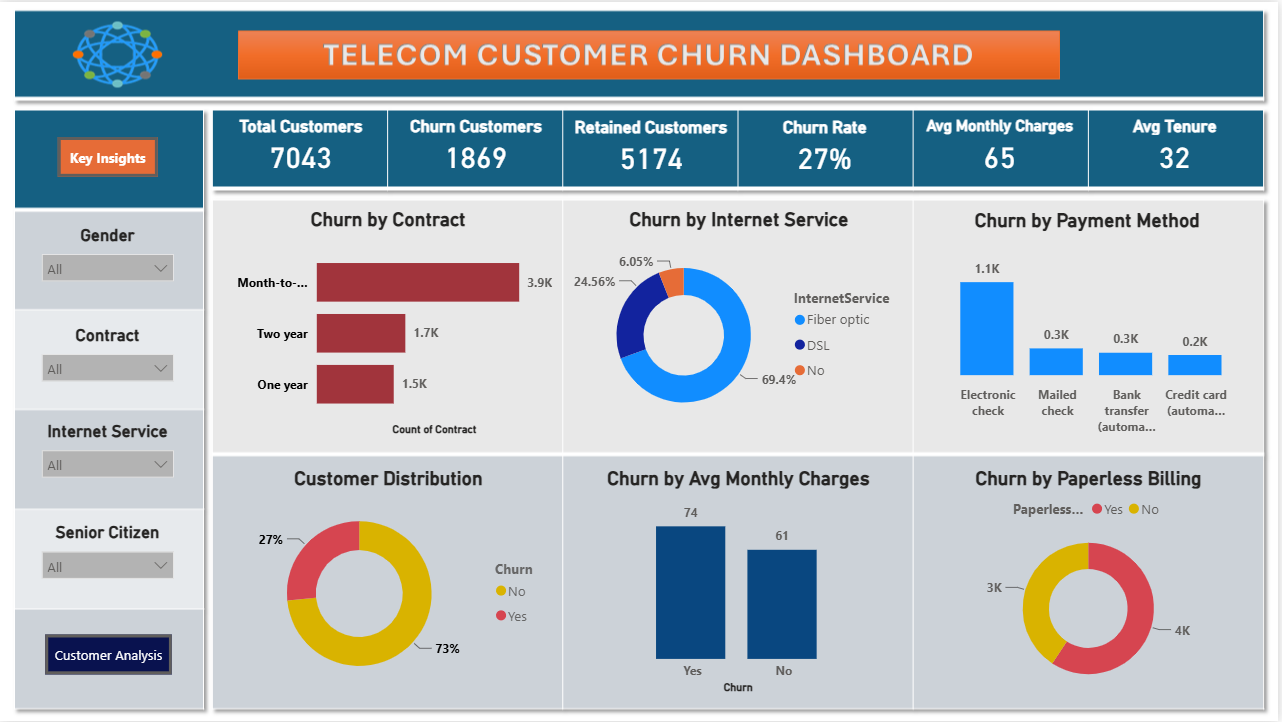

What the dashboard file says about the page in this screenshot:
{"tool":"powerbi","page":{"name":"Home Page","canvas":[1280,720],"ordinal":0},"visuals":[{"type":"card","title":"Total Customers","fields":{"Values":["Telco_Customer_Churn.Total Customers"]},"box":[219.6,113.4,164.1,61.5],"z":0},{"type":"card","title":"Churn Customers","fields":{"Values":["Telco_Customer_Churn.Churn Customers"]},"box":[394.5,113.4,164.1,61.5],"z":1000},{"type":"card","title":"Retained Customers","fields":{"Values":["Telco_Customer_Churn.Retained Customers"]},"box":[569.4,114.6,164.1,61.5],"z":2000},{"type":"card","title":"Churn Rate","fields":{"Values":["Telco_Customer_Churn.Churn Rate %"]},"box":[744.4,114.6,164.1,61.5],"z":3000},{"type":"card","title":"Avg Monthly Charges","fields":{"Values":["Telco_Customer_Churn.Avg Monthly Charges"]},"box":[919.3,114.6,164.1,61.5],"z":4000},{"type":"card","title":"Avg Tenure","fields":{"Values":["Telco_Customer_Churn.Avg Tenure"]},"box":[1094.2,113.4,164.1,61.5],"z":5000},{"type":"slicer","title":"Gender","fields":{"Values":["Telco_Customer_Churn.gender"]},"box":[32.6,222,152,73.6],"z":6000},{"type":"slicer","title":"Contract","fields":{"Values":["Telco_Customer_Churn.Contract"]},"box":[32.6,322.1,152,73.6],"z":7000},{"type":"slicer","title":"Internet Service","fields":{"Values":["Telco_Customer_Churn.InternetService"]},"box":[32.6,418.6,152,73.6],"z":8000},{"type":"slicer","title":"Senior Citizen","fields":{"Values":["Telco_Customer_Churn.Senior Citizen"]},"box":[32.6,520,152,73.6],"z":9000},{"type":"actionButton","box":[45.8,632.2,126.7,39.8],"z":10000},{"type":"clusteredBarChart","title":"Churn by Contract","fields":{"Category":["Telco_Customer_Churn.Contract"],"Y":["Telco_Customer_Churn.Count of Contract"]},"box":[219.8,206.8,338.4,232.8],"z":11000},{"type":"donutChart","title":"Churn by Internet Service","fields":{"Category":["Telco_Customer_Churn.InternetService"],"Y":["Telco_Customer_Churn.Churn Customers"]},"box":[569.7,206.8,339.8,232.8],"z":12000},{"type":"clusteredColumnChart","title":"Churn by Payment Method","fields":{"Y":["CountNonNull(Telco_Customer_Churn.PaymentMethod)"],"Category":["Telco_Customer_Churn.PaymentMethod"]},"box":[919.3,207.5,339,232.8],"z":13000},{"type":"clusteredColumnChart","title":"Churn by Avg Monthly Charges","fields":{"Category":["Telco_Customer_Churn.Churn"],"Y":["Avg(Telco_Customer_Churn.MonthlyCharges)"]},"box":[569.5,465.2,338.9,231.9],"z":14000},{"type":"donutChart","title":"Customer Distribution","fields":{"Category":["Telco_Customer_Churn.Churn"],"Y":["Telco_Customer_Churn.Count of Contract"]},"box":[219.6,465.2,338.9,231.9],"z":15000},{"type":"donutChart","title":"Churn by Paperless Billing","fields":{"Category":["Telco_Customer_Churn.PaperlessBilling"],"Y":["CountNonNull(Telco_Customer_Churn.Contract)"]},"box":[919.4,465.2,338.9,231.9],"z":16000},{"type":"actionButton","box":[59.1,135.1,100.1,39.8],"z":17000}]}

Visuals, with their boxes in screenshot pixels (x1, y1, x2, y2), scaled from the page's 1280x720 canvas onto the 1282x722 screenshot:
"Total Customers" card: <box>220,114,384,175</box>
"Churn Customers" card: <box>395,114,559,175</box>
"Retained Customers" card: <box>570,115,735,177</box>
"Churn Rate" card: <box>746,115,910,177</box>
"Avg Monthly Charges" card: <box>921,115,1085,177</box>
"Avg Tenure" card: <box>1096,114,1260,175</box>
"Gender" slicer: <box>33,223,185,296</box>
"Contract" slicer: <box>33,323,185,397</box>
"Internet Service" slicer: <box>33,420,185,494</box>
"Senior Citizen" slicer: <box>33,521,185,595</box>
actionButton: <box>46,634,173,674</box>
"Churn by Contract" clusteredBarChart: <box>220,207,559,441</box>
"Churn by Internet Service" donutChart: <box>571,207,911,441</box>
"Churn by Payment Method" clusteredColumnChart: <box>921,208,1260,442</box>
"Churn by Avg Monthly Charges" clusteredColumnChart: <box>570,466,910,699</box>
"Customer Distribution" donutChart: <box>220,466,559,699</box>
"Churn by Paperless Billing" donutChart: <box>921,466,1260,699</box>
actionButton: <box>59,135,159,175</box>
